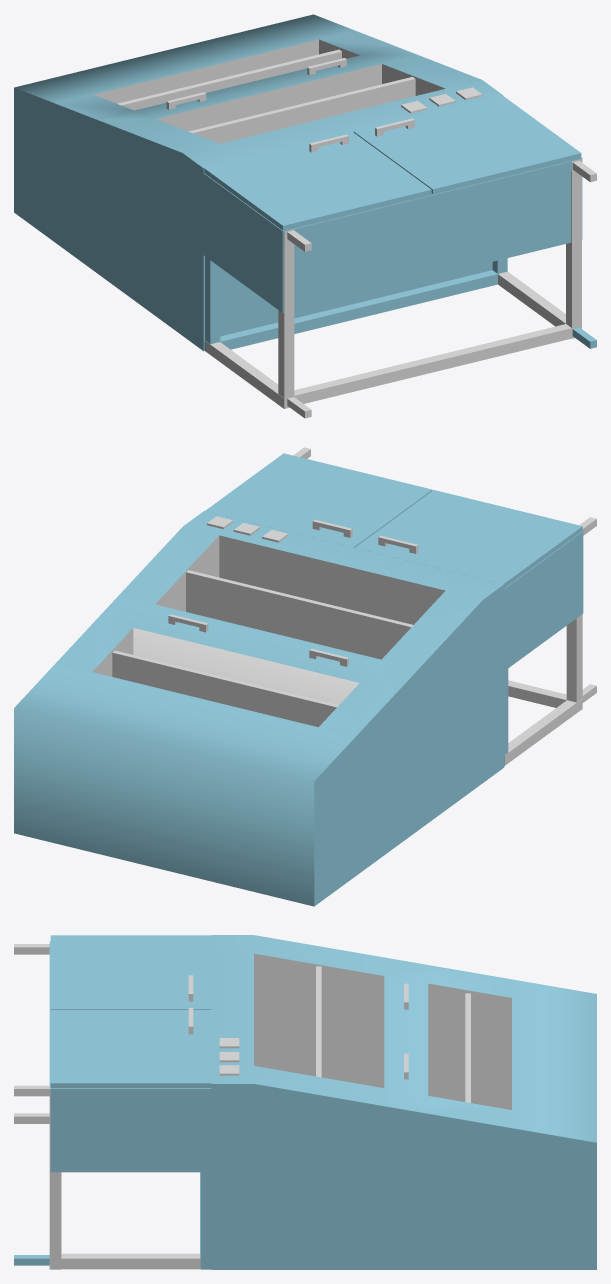
3 renders of one model, top to bottom at view 1: azimuth 30°, elevation 25°; view 2: azimuth 150°, elevation 25°; view 3: azimuth 270°, elevation 25°, orthographic.
Visible parts, largest first — view 1: Cube.002; view 2: Cube.002; view 3: Cube.002.
Part boxes in pixels (left/top/right/bottom): Cube.002: left=14, top=14, right=596, bottom=418; Cube.002: left=14, top=447, right=596, bottom=906; Cube.002: left=14, top=935, right=596, bottom=1269.
Bounding box in the file's own units: 106 × 64.25 × 175.
